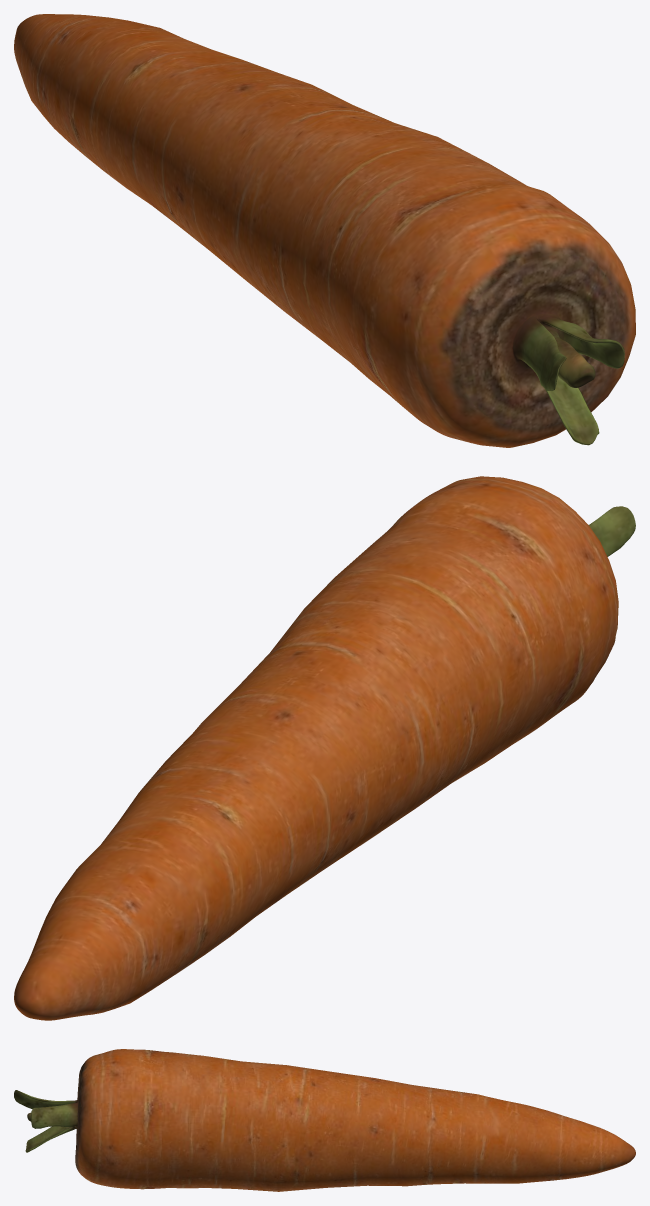
Rendered from carrot_f01.glb.
3 views of the same model, one above another, from view 1: azimuth 30°, elevation 25°; view 2: azimuth 150°, elevation 25°; view 3: azimuth 270°, elevation 25° (orthographic). The views are drawn at different scales.
Parts seen in each view (by area): view 1: sm_food_produce_carrot_f01_mesh_00; view 2: sm_food_produce_carrot_f01_mesh_00; view 3: sm_food_produce_carrot_f01_mesh_00.
Part boxes in pixels (bbox=[...]): sm_food_produce_carrot_f01_mesh_00: bbox=[14, 14, 635, 447]; sm_food_produce_carrot_f01_mesh_00: bbox=[14, 476, 635, 1020]; sm_food_produce_carrot_f01_mesh_00: bbox=[14, 1049, 635, 1191].
Bounding box in the file's own units: 0.0606 × 0.06 × 0.2693.
1 material, 1 textured.
